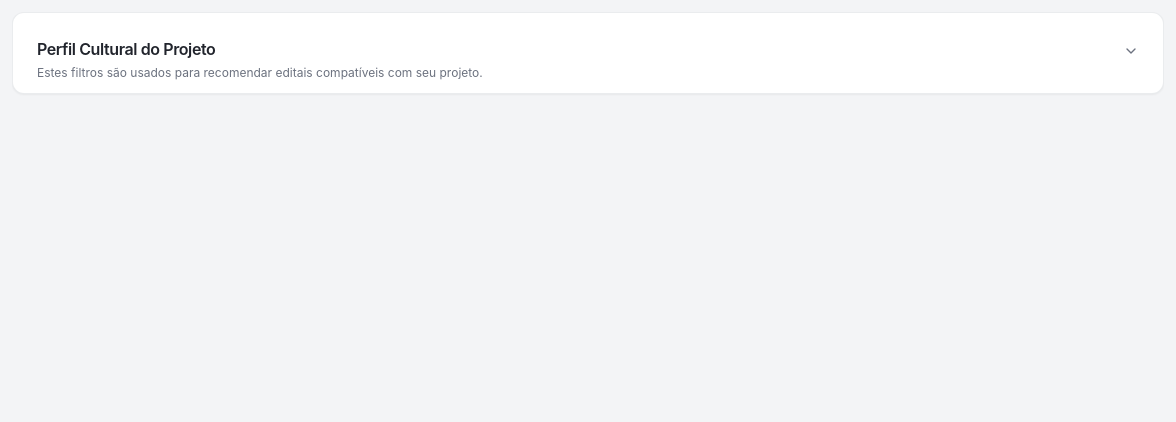
Test: ProjectCulturalProfile — aria-label das palavras-chave › renderiza aria-label correspondente a cada palavra-chave atual
Click the button "Perfil Cultural do Projeto" at {"x": 126, "y": 49}, box [13,13,1163,93]
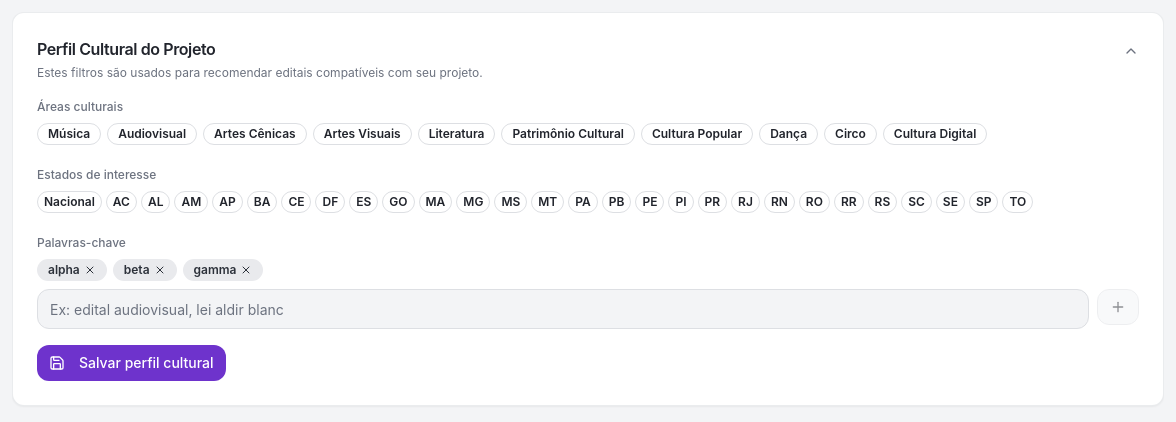
Expected: the button named "Remover palavra-chave alpha" is shown, [84,264,96,276]
Expected: the button named "Remover palavra-chave beta" is shown, [154,264,166,276]
Expected: the button named "Remover palavra-chave gamma" is shown, [240,264,252,276]
